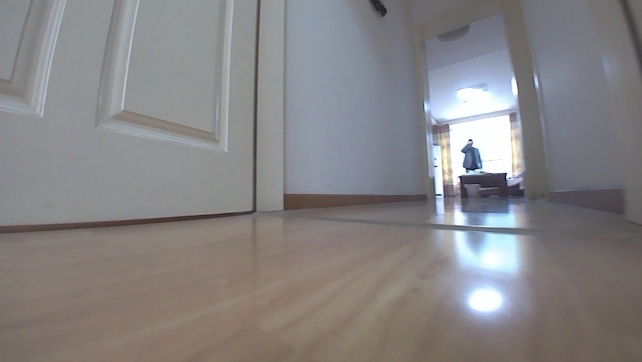door_anno: (0, 0, 285, 231)
